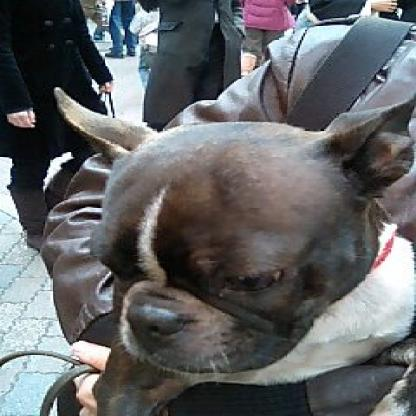French_bulldog: (48, 81, 412, 410)
